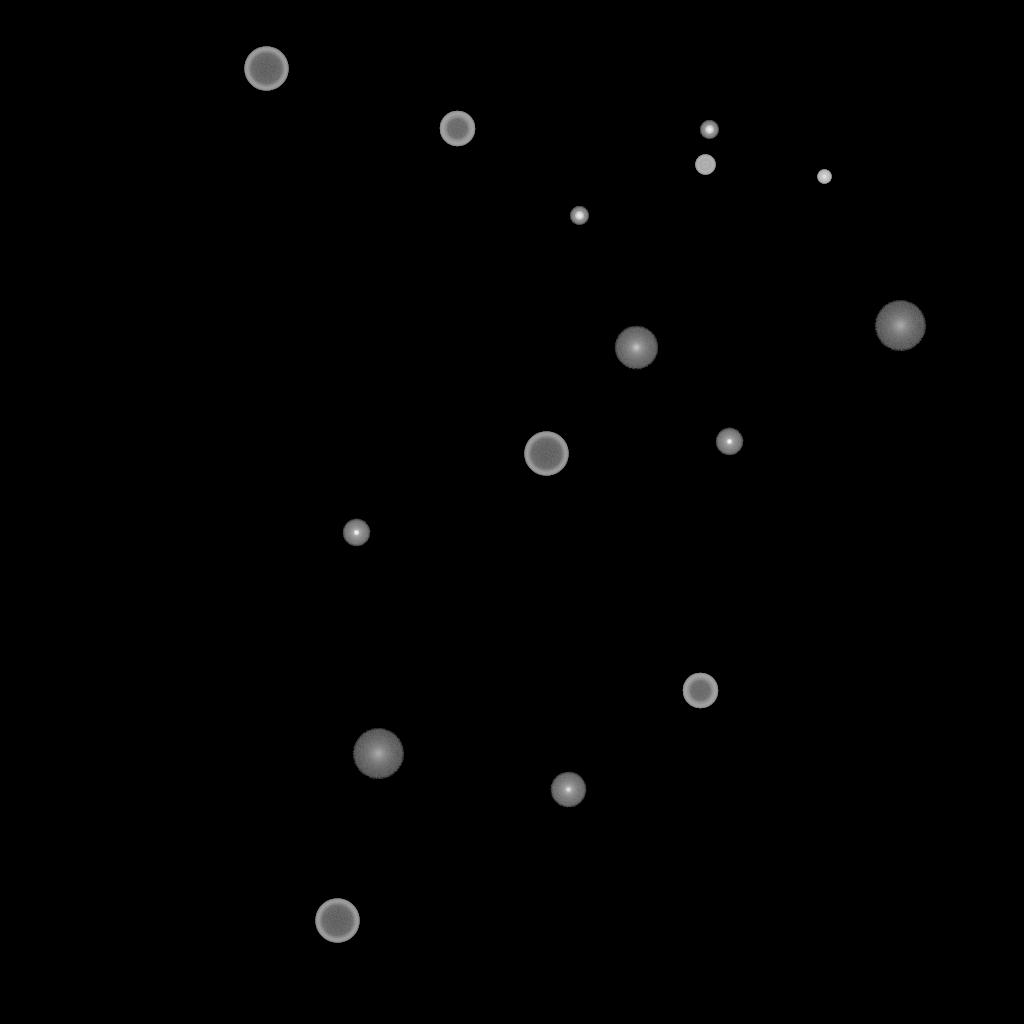depth:-10: (715, 428, 743, 456), (342, 519, 370, 547)
depth:-20: (570, 207, 588, 225), (700, 121, 718, 139)
depth:-30: (817, 170, 831, 184)
depth:-40: (695, 155, 715, 175)
depth:-60: (682, 673, 718, 709), (439, 111, 475, 147)
depth:-70: (315, 899, 359, 943), (244, 47, 288, 91), (524, 432, 568, 476)
depth:0: (550, 772, 586, 808)
depth:10: (614, 326, 658, 370)
depth:20: (874, 301, 926, 351), (352, 729, 404, 779)
